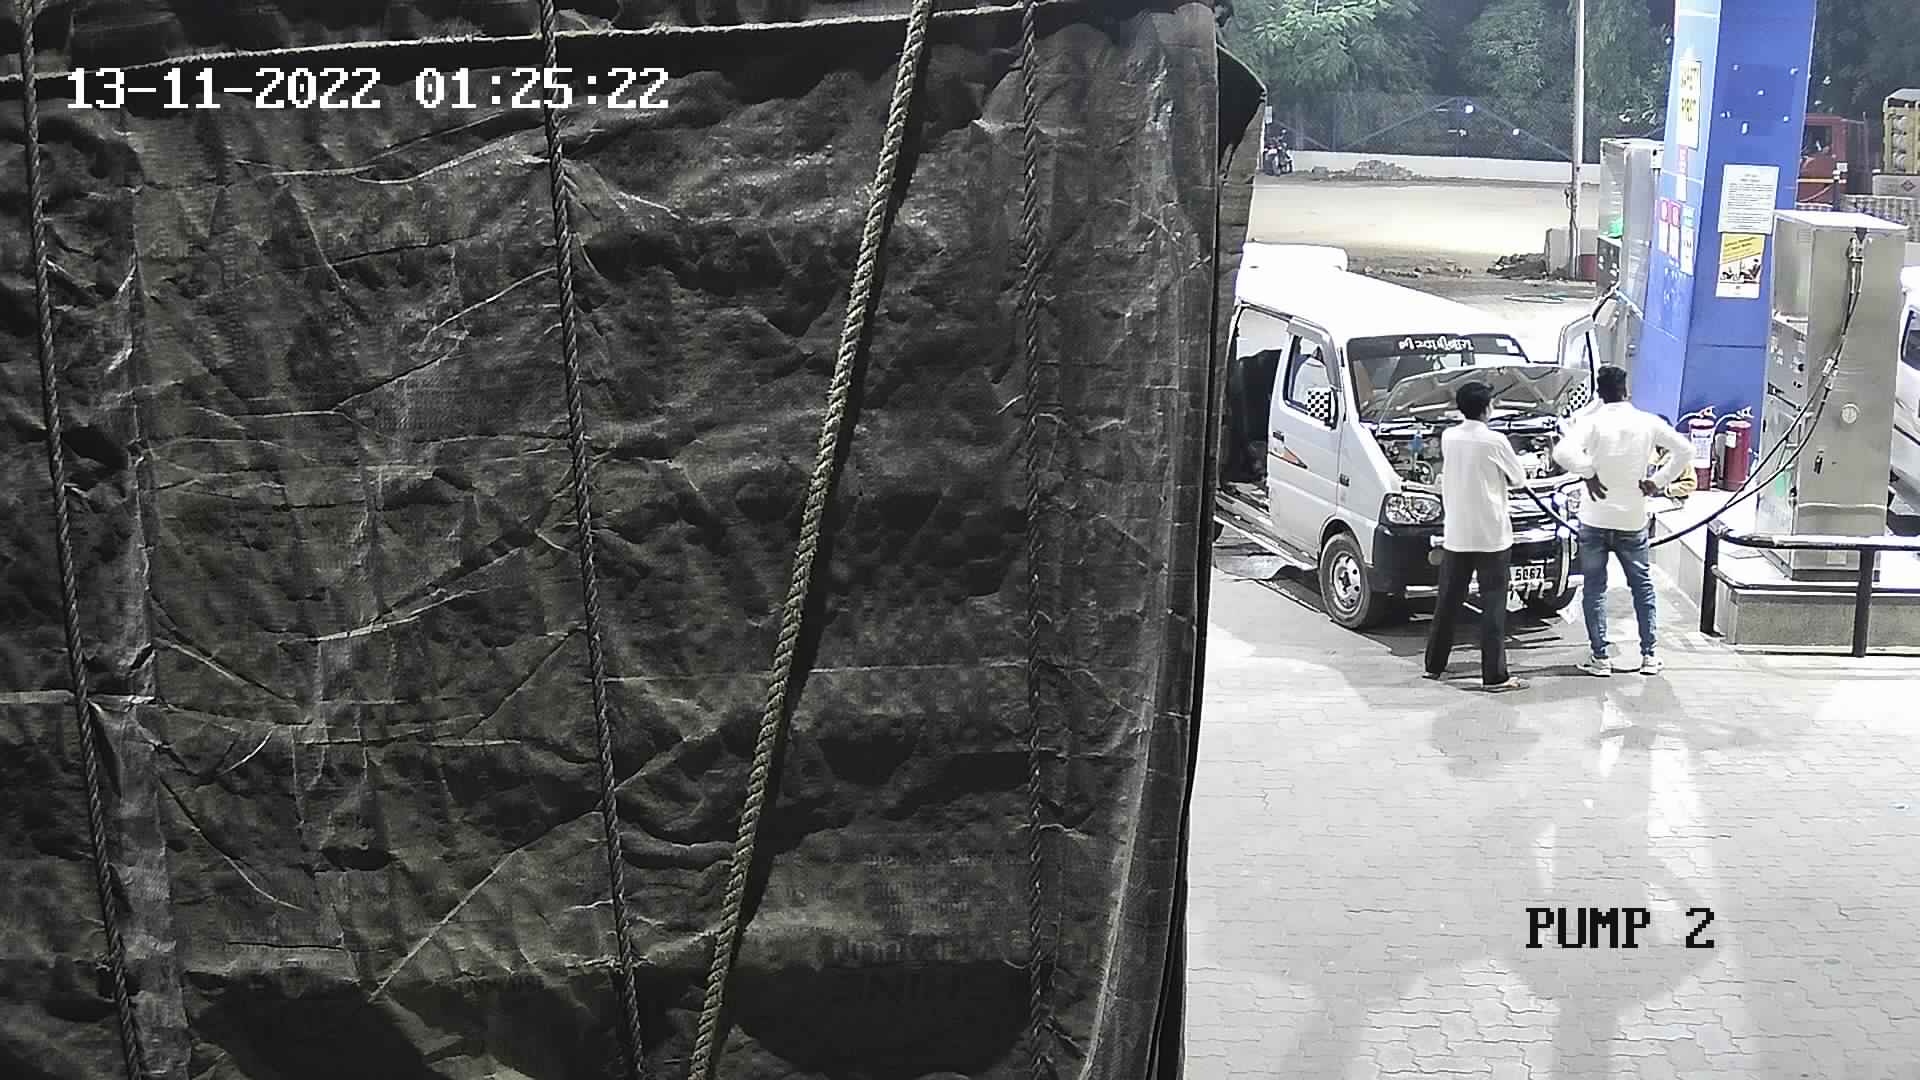Bike: (1254, 116, 1303, 182)
Car: (1197, 224, 1627, 661), (1869, 255, 1917, 537)
HMV: (0, 0, 1269, 1077), (1782, 59, 1917, 229)
